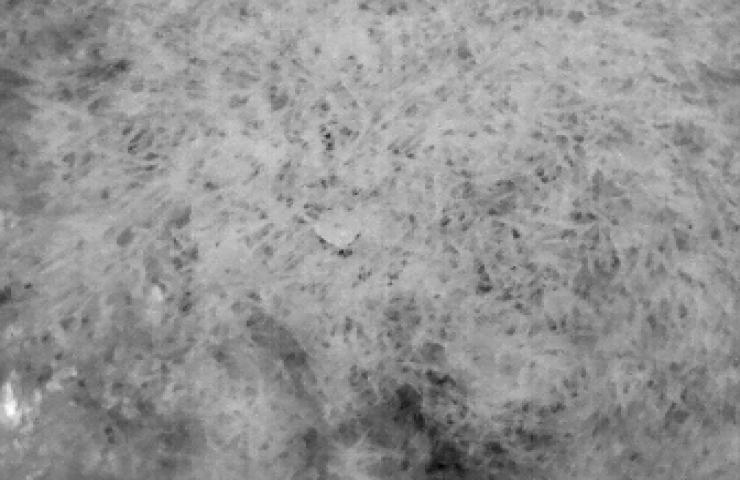landmines: (312, 206, 367, 249)
